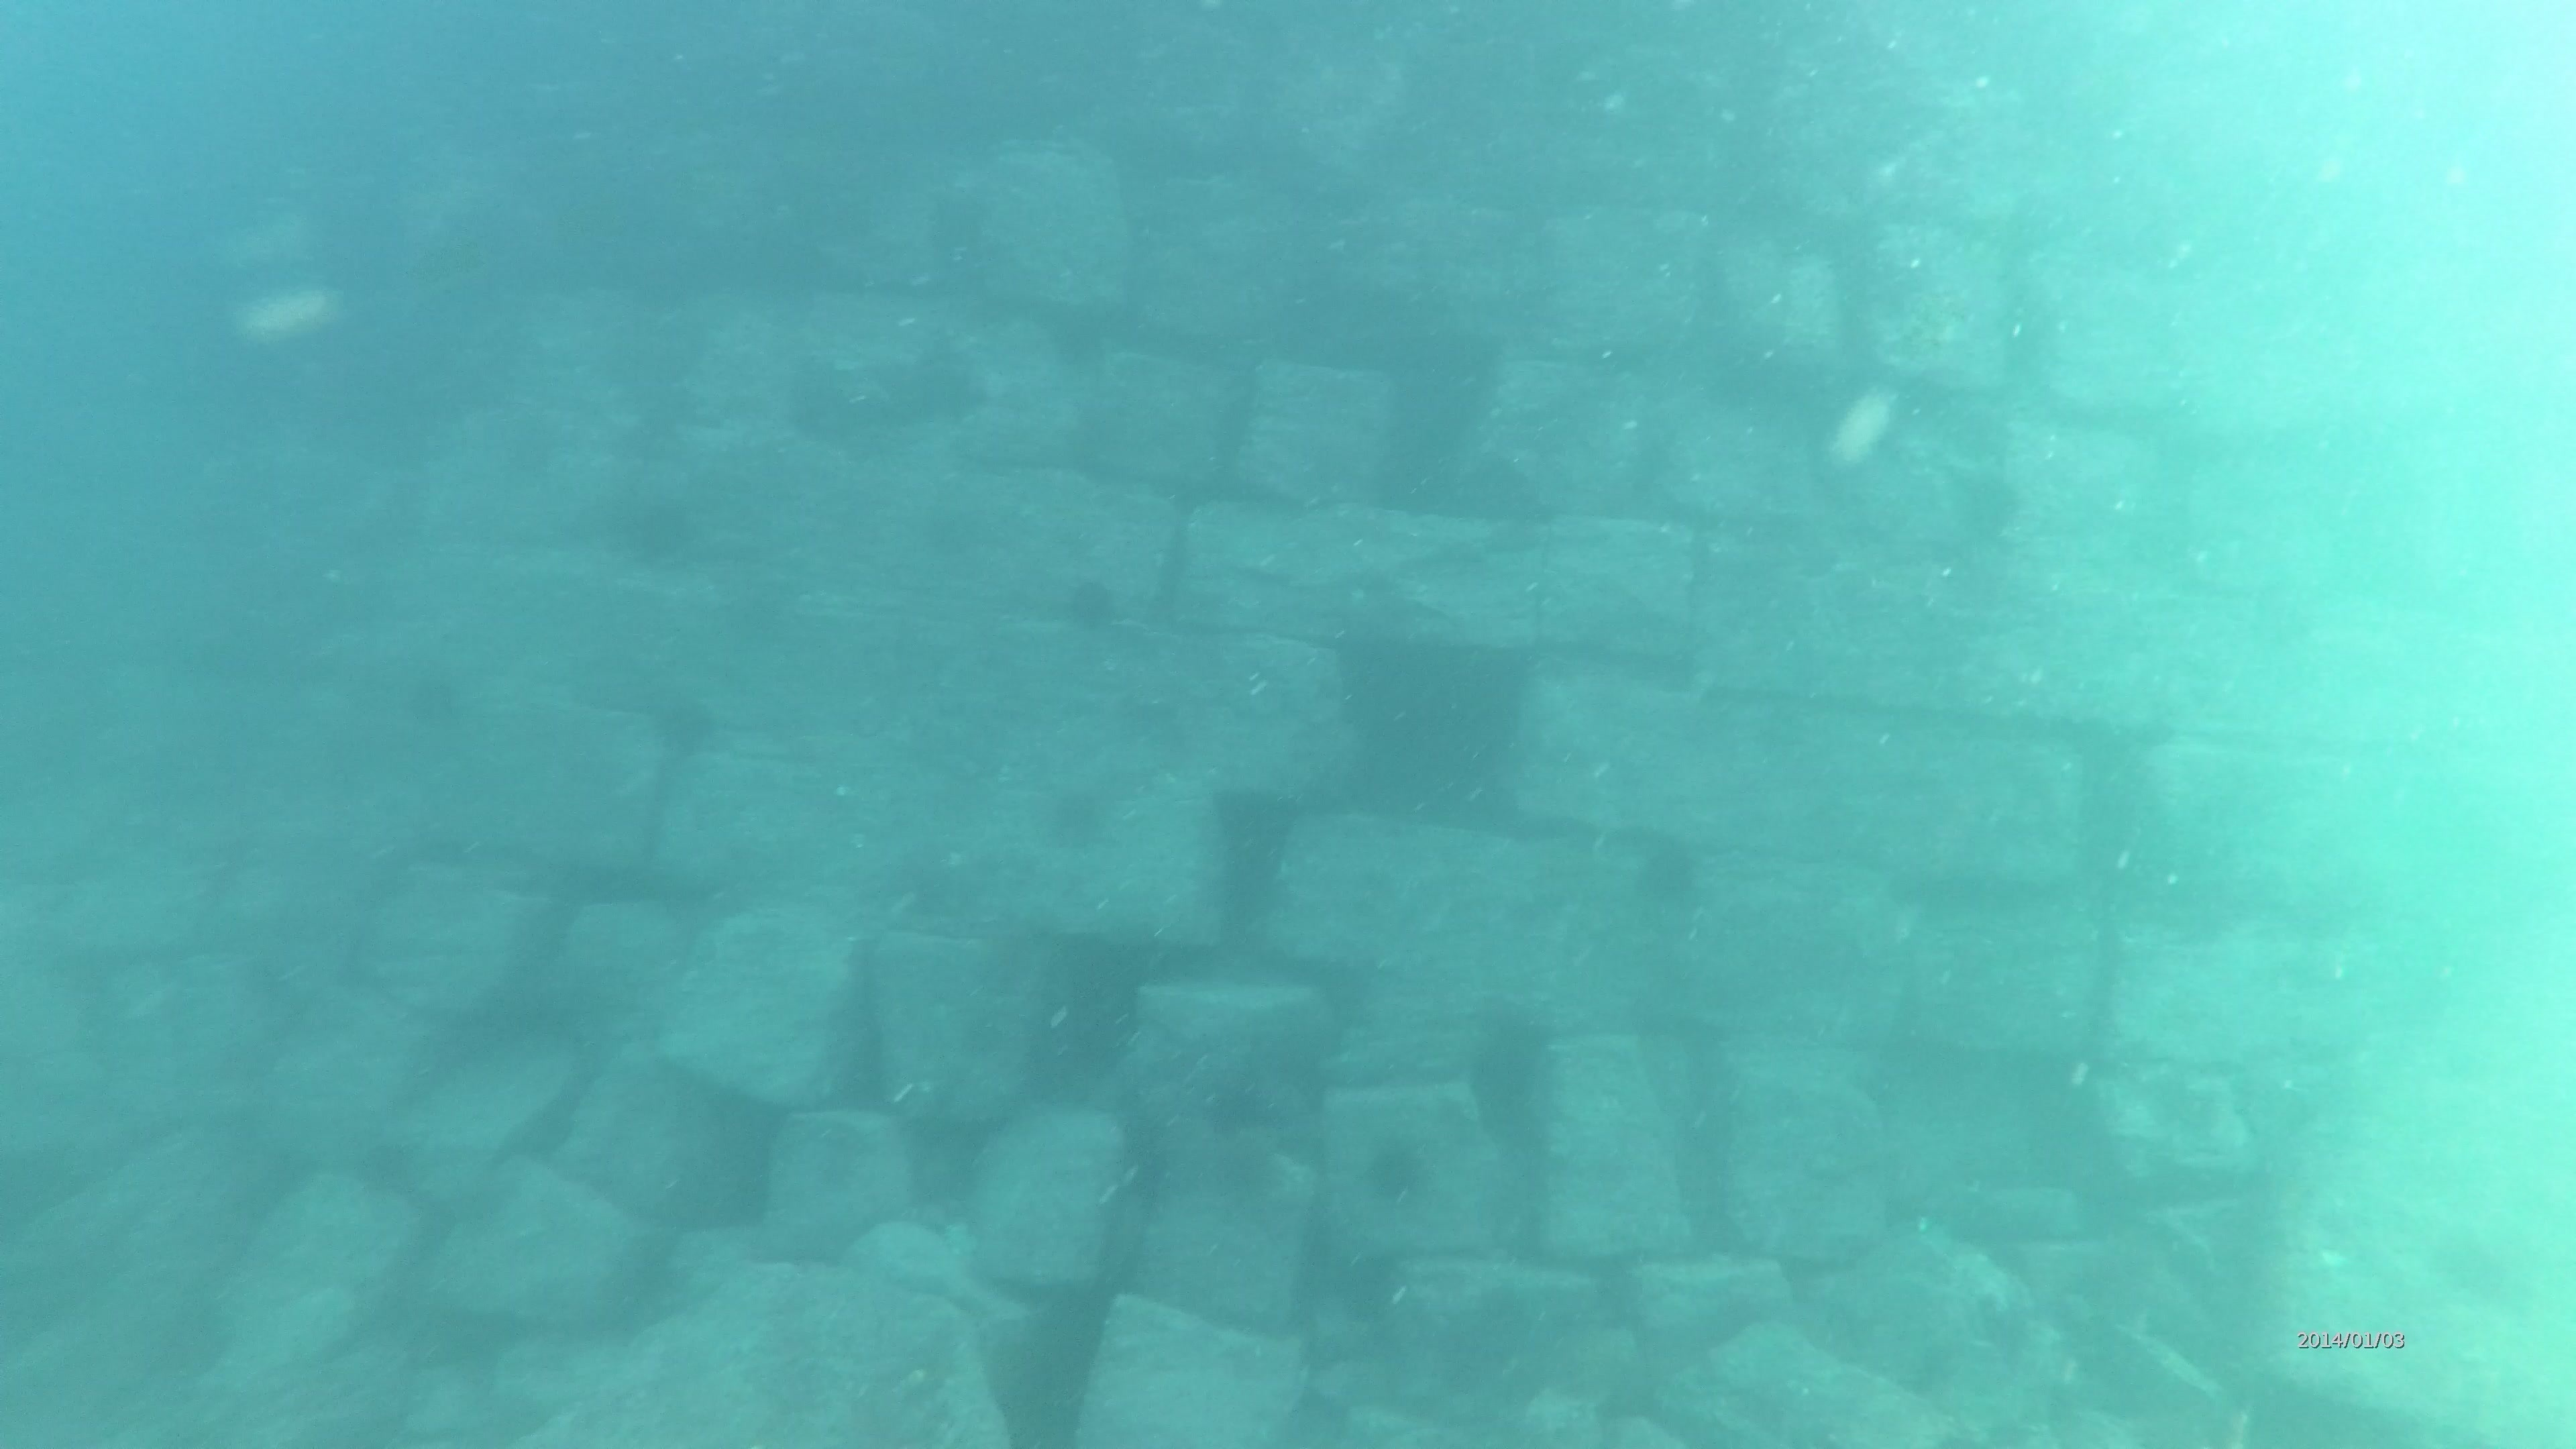echinus: (605, 483, 708, 575), (1622, 824, 1714, 922), (1033, 775, 1122, 858), (1357, 1129, 1440, 1215), (1051, 568, 1129, 642), (1348, 1260, 1399, 1320), (660, 699, 713, 745), (1208, 1086, 1260, 1132), (409, 686, 464, 727)
